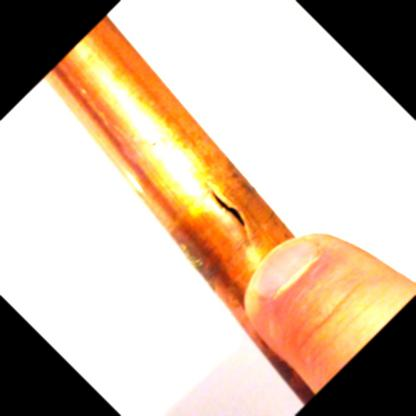burst: (207, 185, 255, 239)
